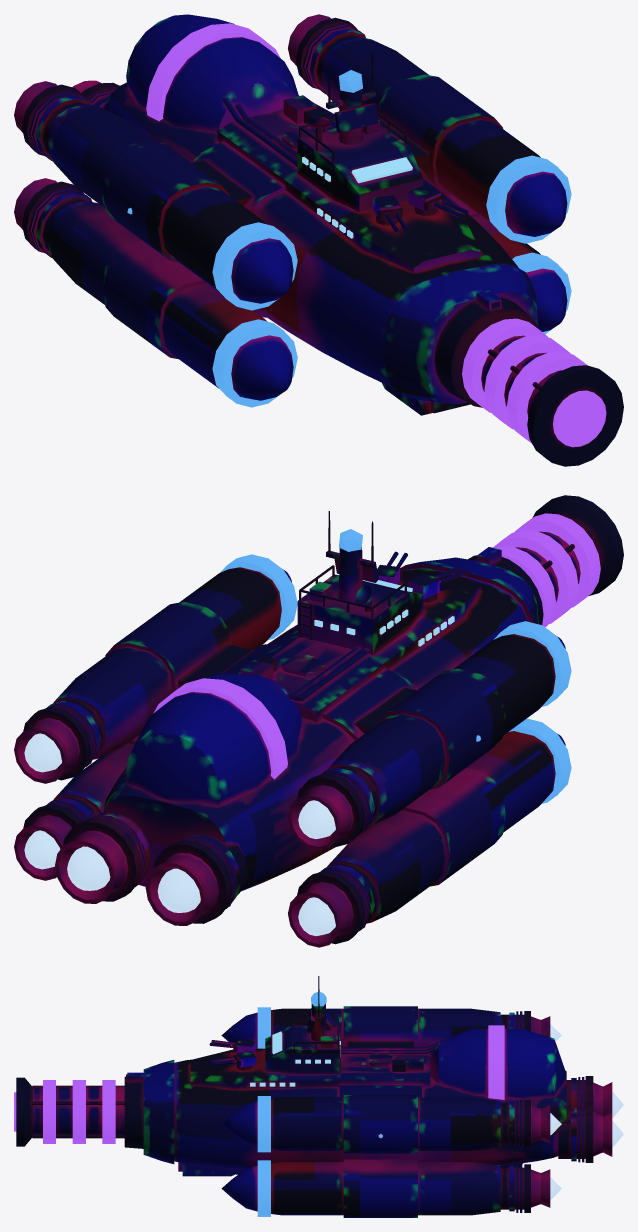
Rendered from plasma_frigate.glb.
3 renders of one model, top to bottom at view 1: azimuth 30°, elevation 25°; view 2: azimuth 150°, elevation 25°; view 3: azimuth 270°, elevation 25°, orthographic. The views are drawn at different scales.
Parts seen in each view (by area): view 1: plasma_frigate; view 2: plasma_frigate; view 3: plasma_frigate.
Boxes of the visible parts, x1,y1,x2,y2 form: plasma_frigate: (14, 14, 623, 466); plasma_frigate: (14, 495, 623, 947); plasma_frigate: (14, 976, 623, 1217).
Size of the model in its own units: 3.27 by 2.52 by 7.38.
13 materials, 9 textured.
